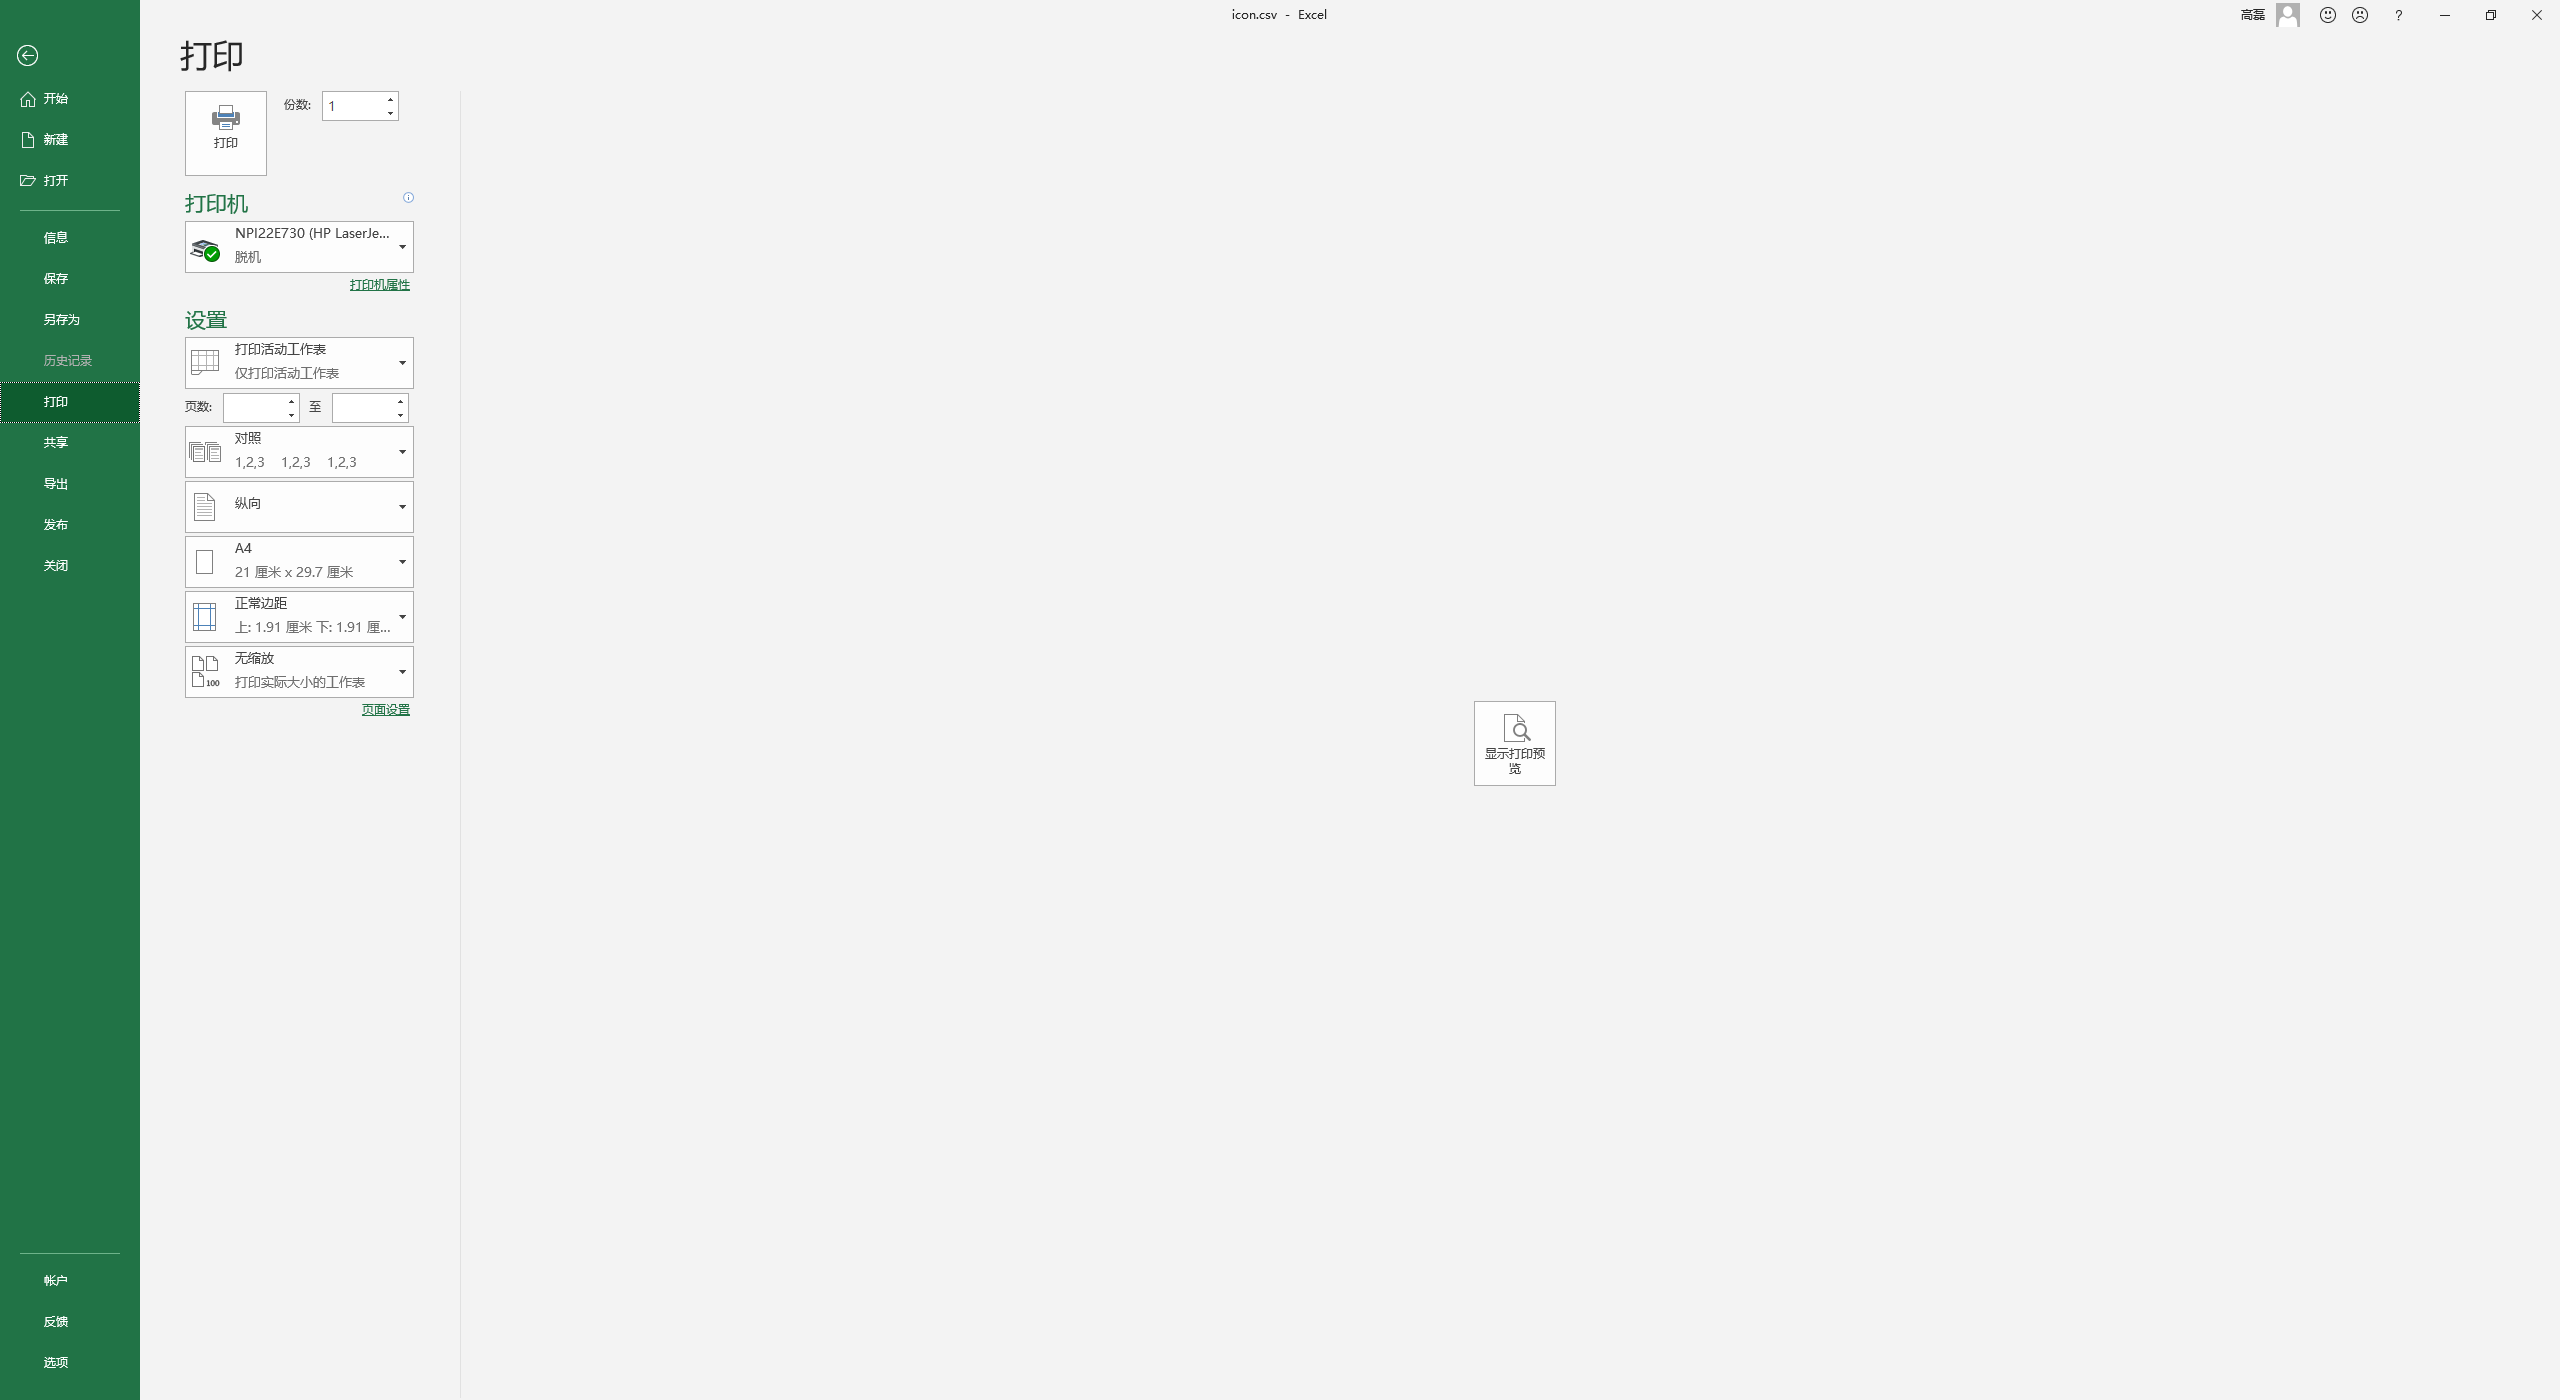character: (176, 36, 252, 72), (1226, 3, 1333, 28), (236, 619, 381, 634), (236, 228, 386, 240), (178, 190, 252, 214), (234, 455, 362, 469), (1489, 747, 1543, 779), (231, 566, 357, 579), (233, 367, 347, 381), (234, 674, 364, 686), (233, 341, 329, 357), (347, 276, 414, 295), (231, 652, 286, 667), (184, 309, 229, 328), (360, 702, 412, 717), (281, 91, 314, 116), (234, 595, 291, 609), (43, 352, 91, 367), (229, 429, 267, 447), (34, 559, 78, 572), (41, 391, 76, 407), (234, 248, 265, 266), (45, 128, 71, 147), (233, 495, 265, 509), (45, 172, 71, 190), (41, 474, 69, 490), (2241, 5, 2265, 22), (43, 314, 81, 324), (45, 91, 72, 105), (43, 434, 71, 448), (184, 398, 212, 412), (41, 1316, 72, 1328), (307, 397, 326, 416), (45, 231, 71, 245), (45, 272, 72, 284), (45, 517, 71, 529), (41, 1357, 67, 1369), (234, 541, 260, 553), (212, 136, 241, 147), (41, 1276, 71, 1284), (326, 100, 341, 116)
icon: (191, 653, 224, 691), (1502, 710, 1538, 743), (190, 345, 224, 378), (186, 236, 221, 266), (210, 103, 241, 134), (190, 600, 219, 633), (191, 490, 217, 522), (190, 440, 222, 464), (2274, 2, 2301, 28), (191, 548, 215, 576), (391, 350, 417, 372), (2315, 3, 2339, 24), (16, 45, 38, 66), (2350, 3, 2370, 24), (395, 603, 414, 626), (383, 107, 402, 128), (395, 238, 415, 257), (2434, 5, 2455, 22), (396, 548, 410, 572), (19, 129, 36, 148), (391, 409, 409, 428), (395, 443, 412, 462), (2389, 5, 2408, 22), (19, 90, 36, 107), (19, 171, 36, 188), (2527, 5, 2544, 22), (395, 391, 412, 407), (281, 410, 298, 424), (396, 659, 409, 678), (2482, 7, 2498, 21), (384, 91, 398, 105), (284, 395, 297, 409), (402, 190, 414, 203), (396, 500, 407, 512)
